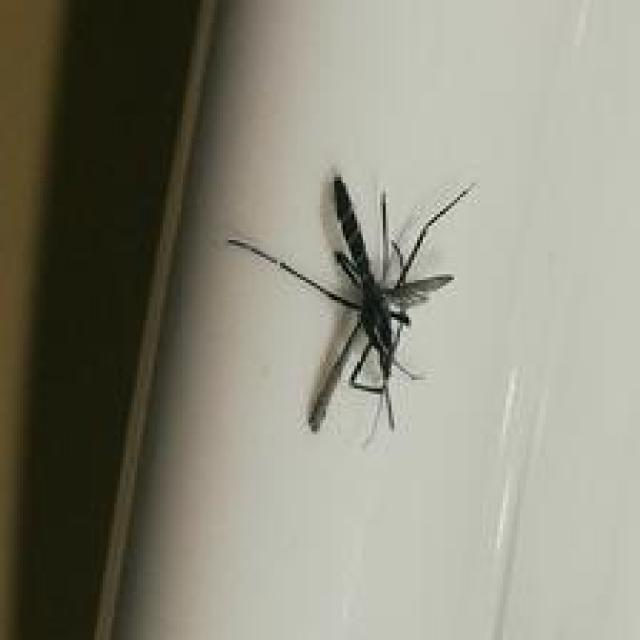Aedes albopictus: (226, 173, 477, 447)
